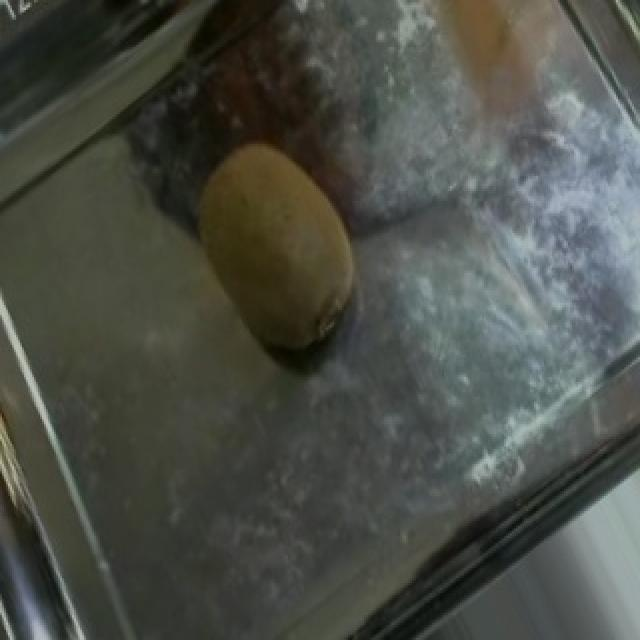Fruit: (156, 109, 396, 385), (398, 0, 598, 149)
